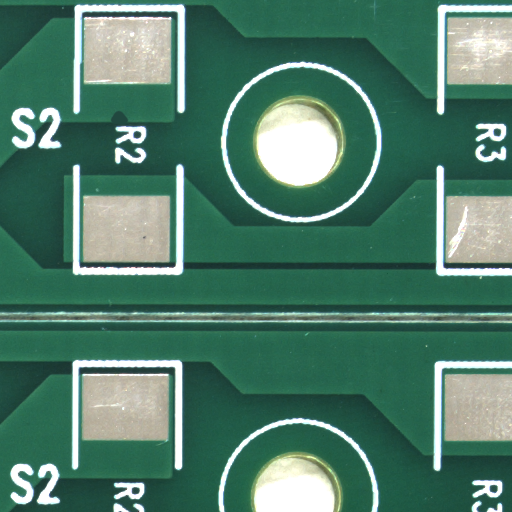Mouse_bite: (120, 117, 137, 130)
